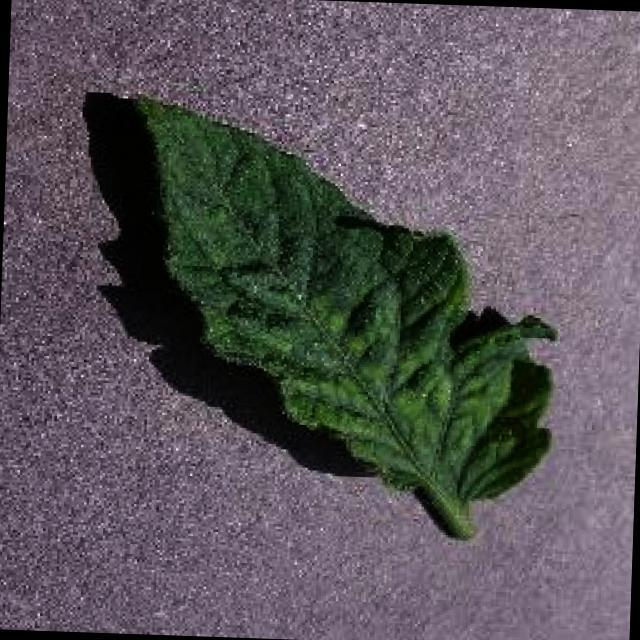Tomato mosaic virus leaf: (117, 88, 571, 510)
